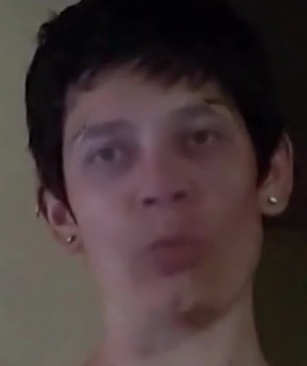eb_f: (69, 91, 243, 175)
